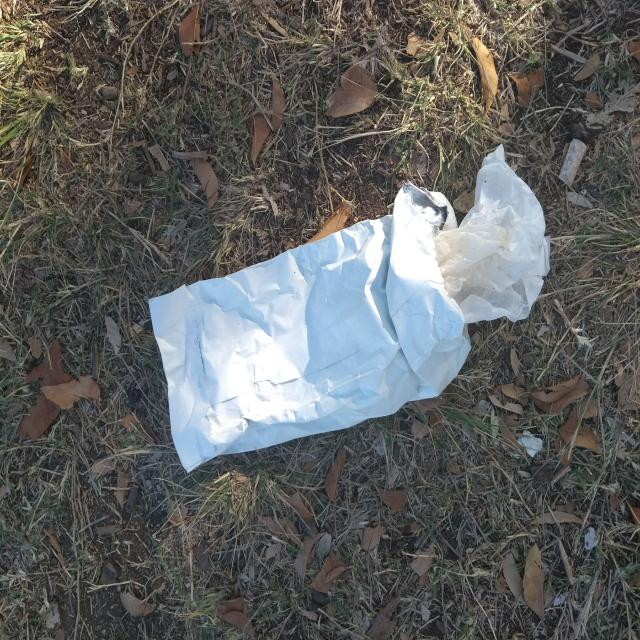Cigarette: (558, 138, 588, 185)
Other plastic: (148, 181, 472, 474)
Plastic film: (433, 144, 550, 323)
Unlabeled litter: (518, 430, 543, 458)
